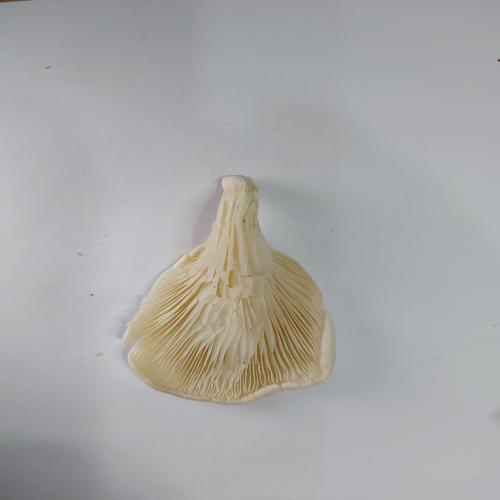Oyster Mushroom: (122, 174, 337, 405)
